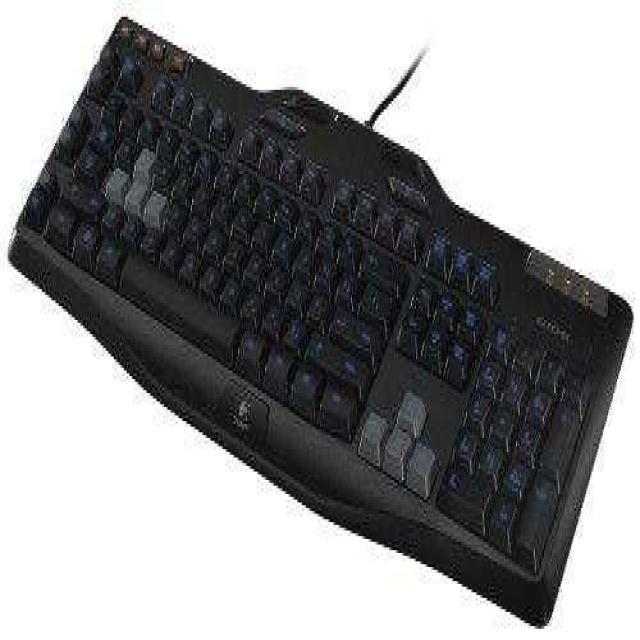keyboard: (3, 39, 632, 628)
